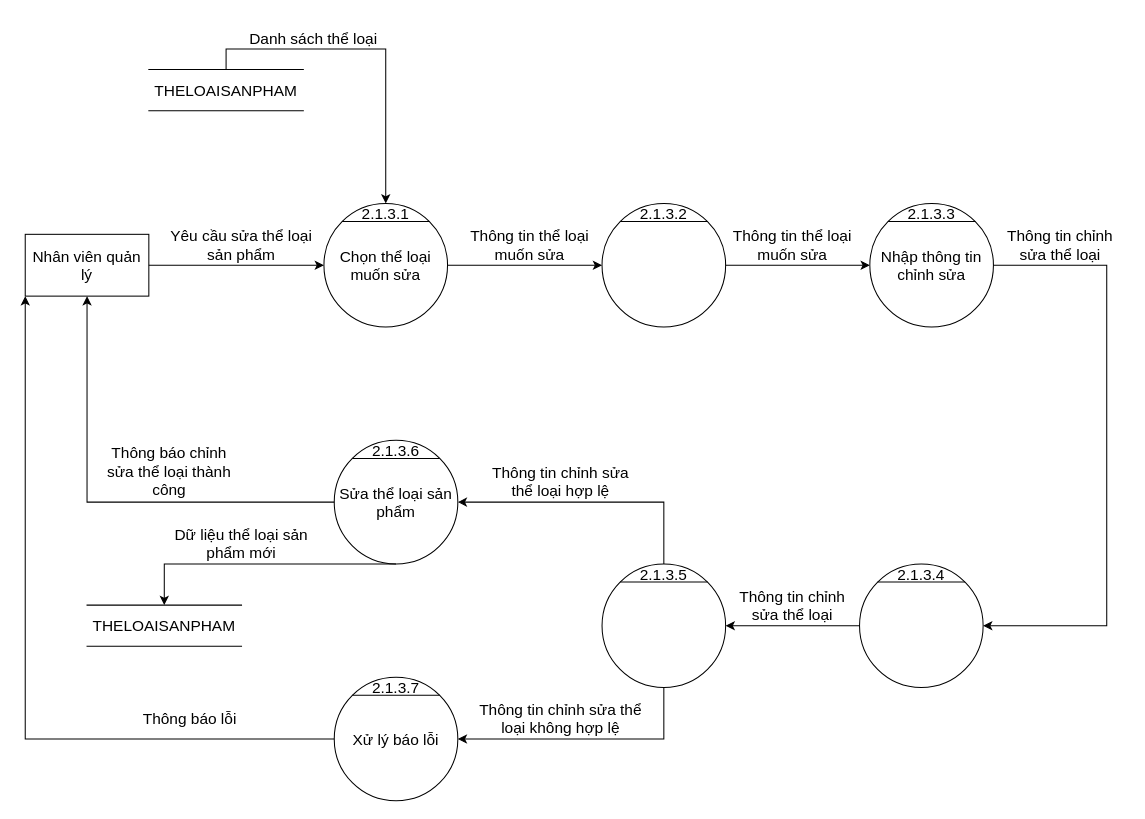
This 1145x819 diagram has some shape labels left out. Here are the shapes that lost their labels. From the top down, the box of each, then its label:
(601, 202, 726, 327): Hiển thị thông tin thể loại muốn sửa
(601, 563, 726, 688): Kiểm tra thông tin chỉnh sửa
(859, 563, 983, 688): Tiếp nhận thông tin chỉnh sửa thể loại sản phẩm
